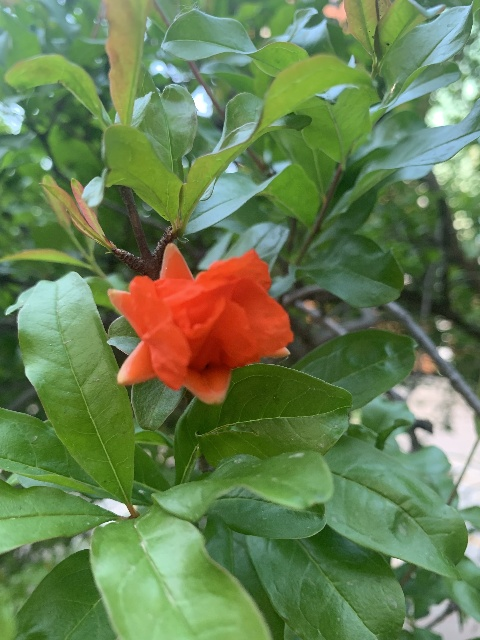flower: (109, 241, 293, 404)
